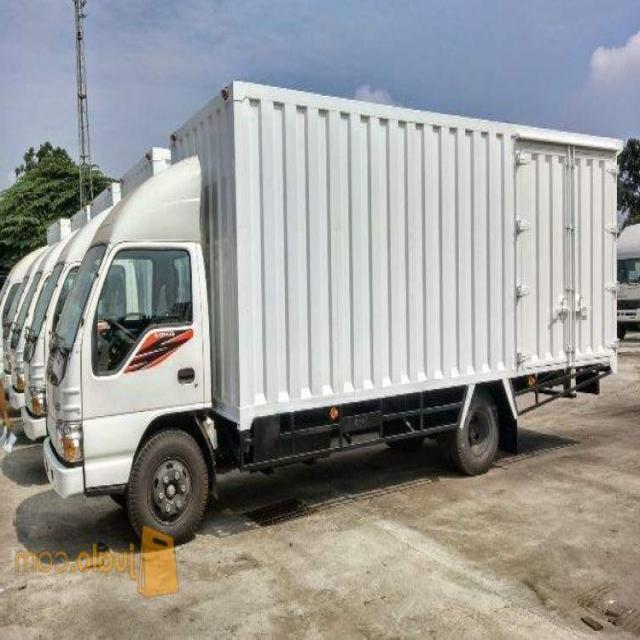truck: (33, 66, 632, 548)
